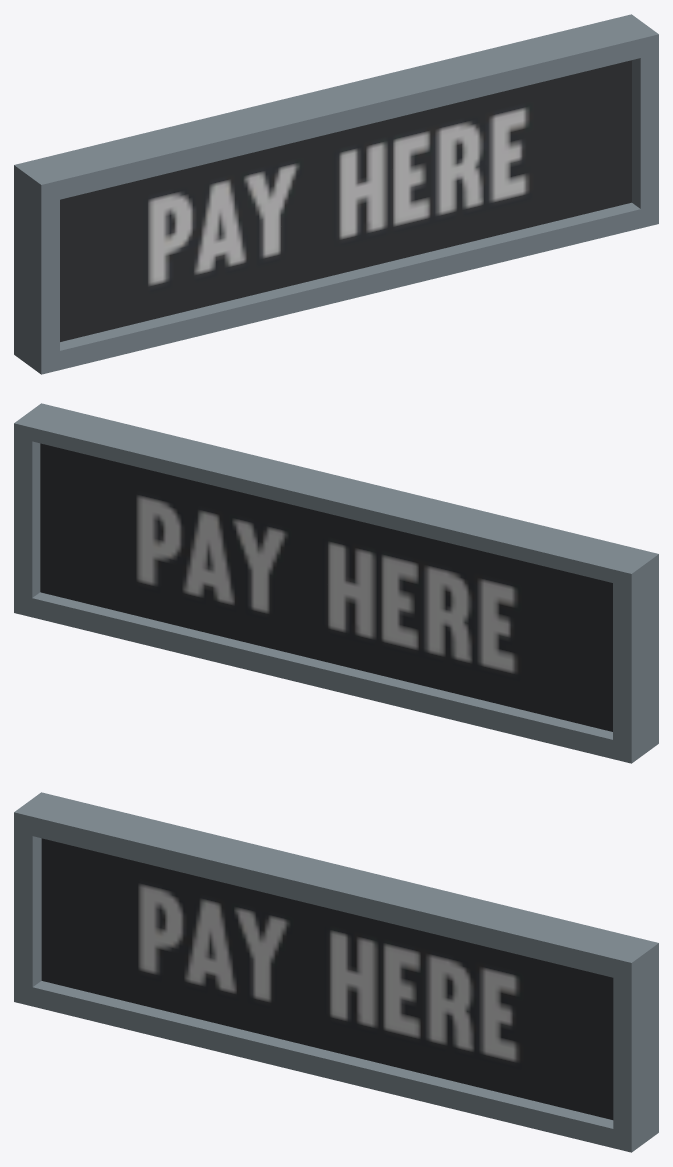
Rendered from SM_Sign_Framed_03.obj.
3 renders of one model, top to bottom at view 1: azimuth 30°, elevation 25°; view 2: azimuth 150°, elevation 25°; view 3: azimuth 330°, elevation 25°, orthographic.
Visible parts, largest first — view 1: SM_Sign_Framed_03_0; view 2: SM_Sign_Framed_03_0; view 3: SM_Sign_Framed_03_0.
Boxes of the visible parts, x1,y1,x2,y2 form: SM_Sign_Framed_03_0: (14,14,658,374); SM_Sign_Framed_03_0: (14,403,658,763); SM_Sign_Framed_03_0: (14,792,658,1152).
Bounding box in the file's own units: 0.9057 × 0.2658 × 0.0694.
1 material, 1 textured.
